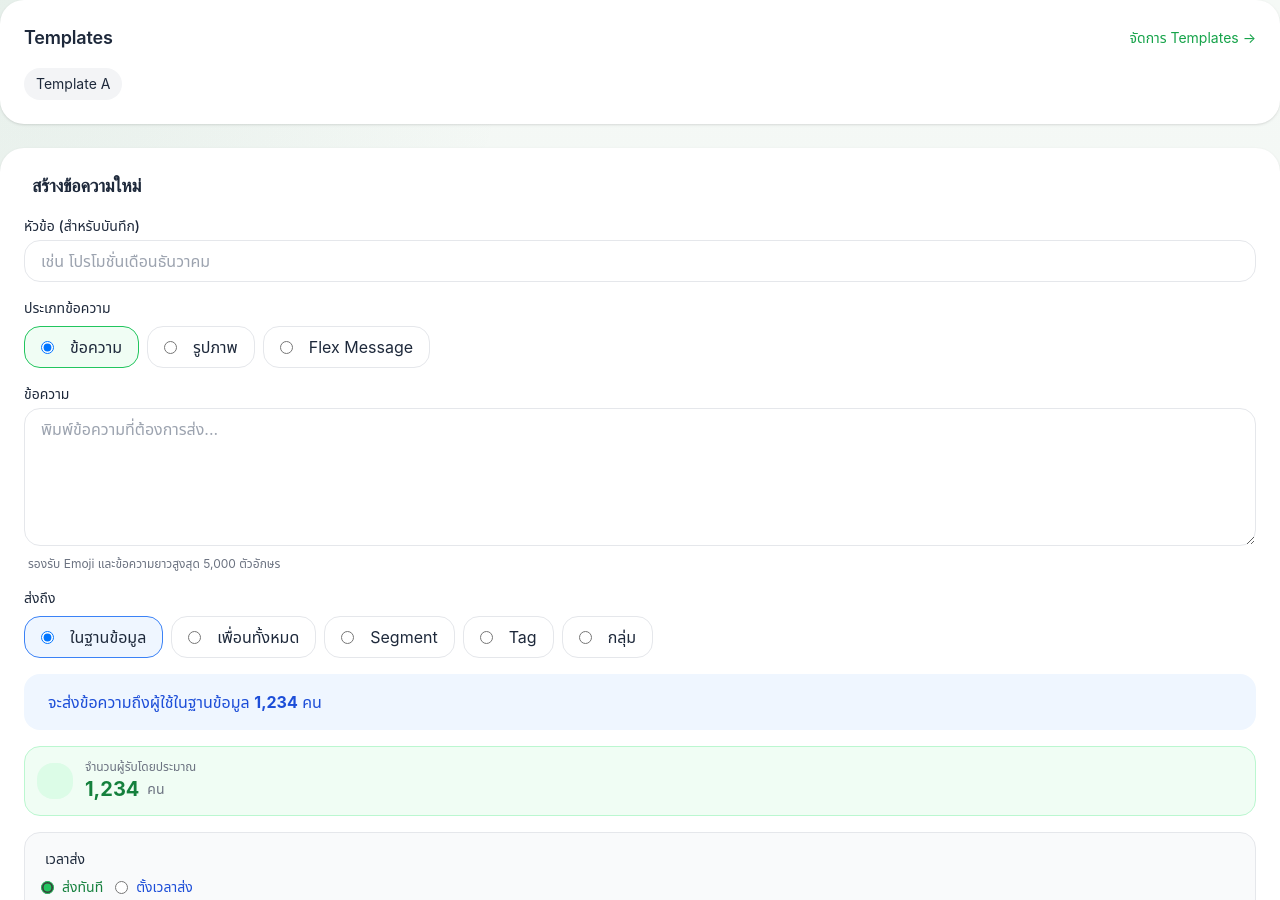
Test case: SendComposeForm — target-type panels › switching to target_type=tag reveals the tag checklist
Click the radio button labelled "Tag": (486, 637) [480,630,493,644]
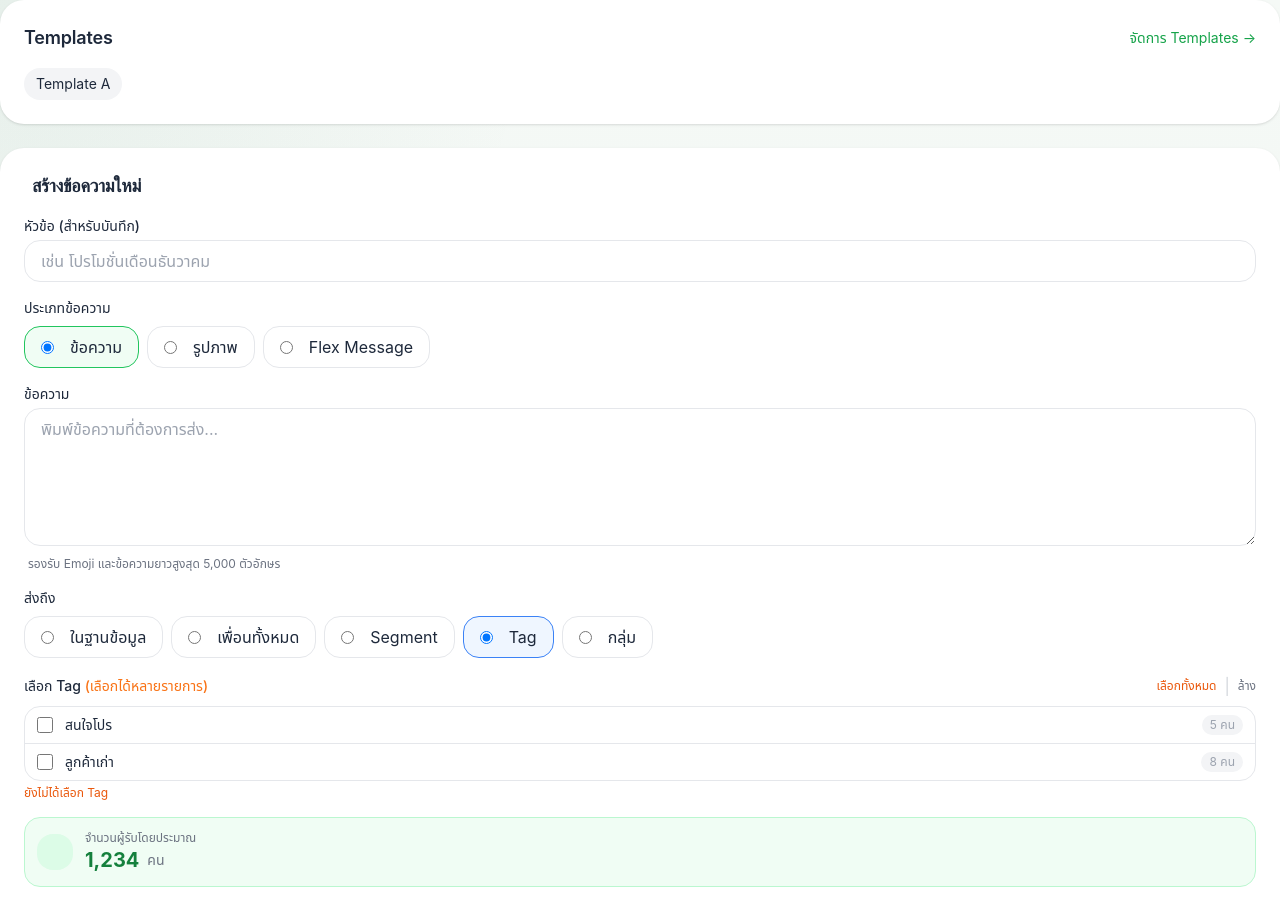
Expected: the text "สนใจโปร" is shown, [65,716,112,733]
Expected: the text "ลูกค้าเก่า" is shown, [65,753,114,770]
Expected: the text "ยังไม่ได้เลือก Tag" is shown, [24,785,108,800]
